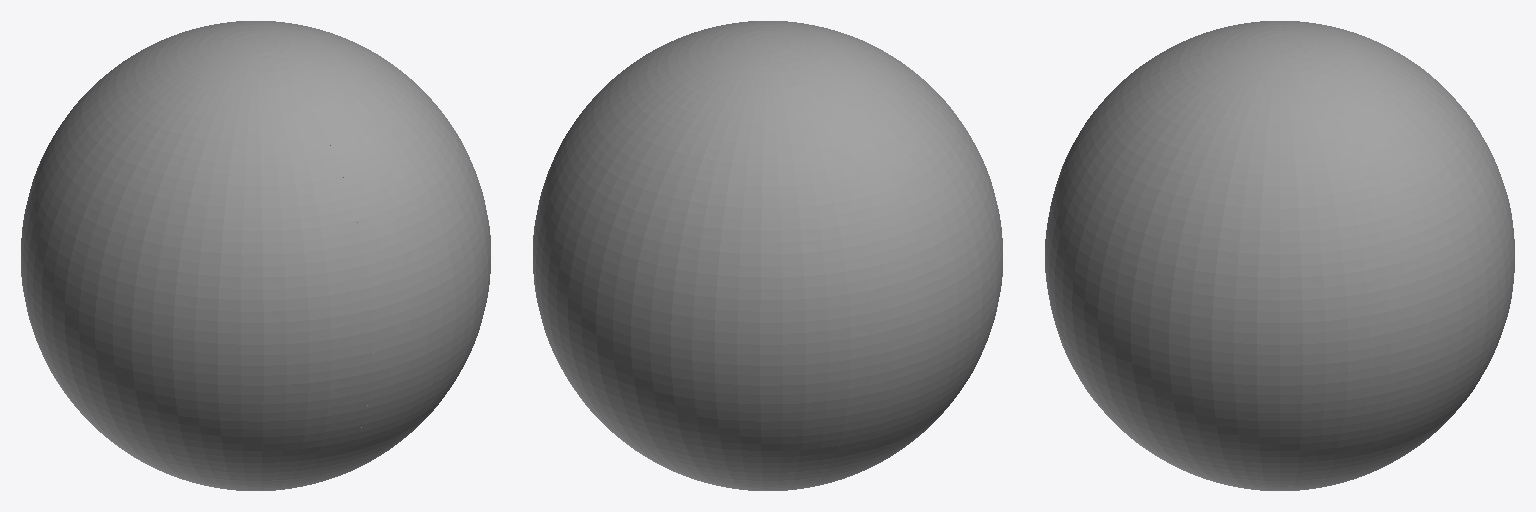
The model's file is fixedplanet.obj.
The picture shows the model from 3 angles: view 1: azimuth 30°, elevation 25°; view 2: azimuth 150°, elevation 25°; view 3: azimuth 270°, elevation 25°; orthographic projection.
Visible parts, largest first — view 1: Plane; view 2: Plane; view 3: Plane.
Part boxes in pixels (left/top/right/bottom): Plane: left=21, top=21, right=490, bottom=490; Plane: left=533, top=21, right=1002, bottom=490; Plane: left=1045, top=21, right=1514, bottom=490.
Size of the model in its own units: 5.21 by 5.21 by 5.21.